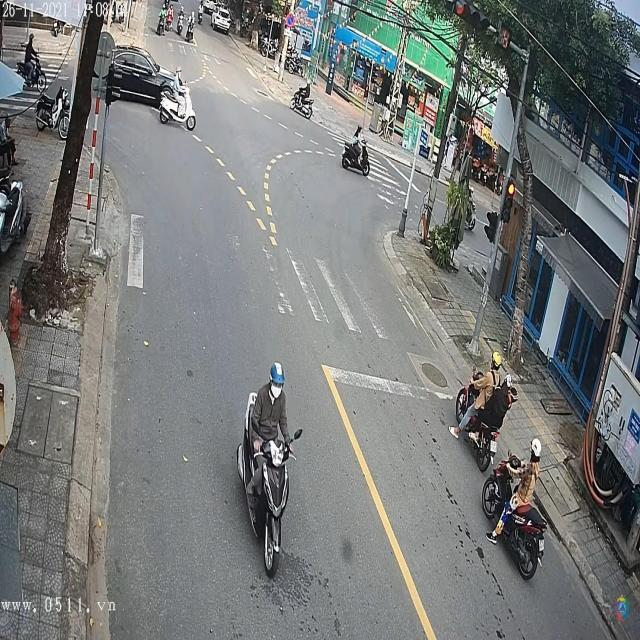car: (106, 46, 188, 120)
motorcycle: (238, 387, 296, 581), (480, 454, 547, 584), (455, 368, 502, 471), (154, 85, 197, 132), (16, 54, 49, 98), (343, 140, 371, 178), (290, 86, 315, 120), (178, 14, 184, 33)
